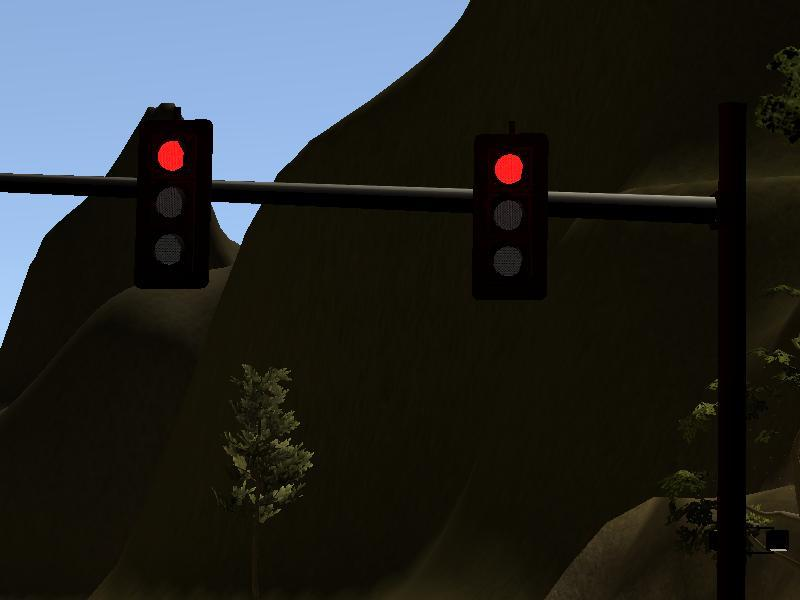Red: (472, 132, 547, 301), (136, 119, 210, 290)
